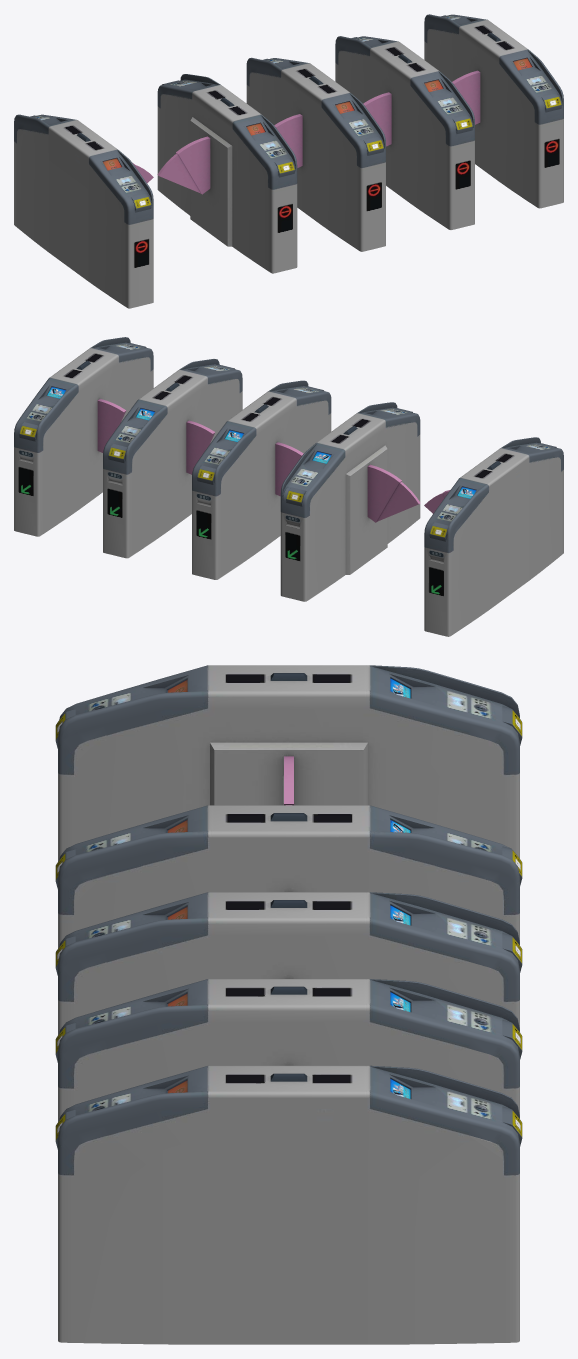
3 renders of one model, top to bottom at view 1: azimuth 30°, elevation 25°; view 2: azimuth 150°, elevation 25°; view 3: azimuth 270°, elevation 25°, orthographic. The views are drawn at different scales.
Parts seen in each view (by area): view 1: 闸机; view 2: 闸机; view 3: 闸机.
Part boxes in pixels (<box>): 闸机: <box>14,14,563,308</box>; 闸机: <box>14,337,563,636</box>; 闸机: <box>55,665,522,1344</box>.
Size of the model in its own units: 3.96 by 1.1 by 1.82.
Materials: 1 (1 with a texture image).
